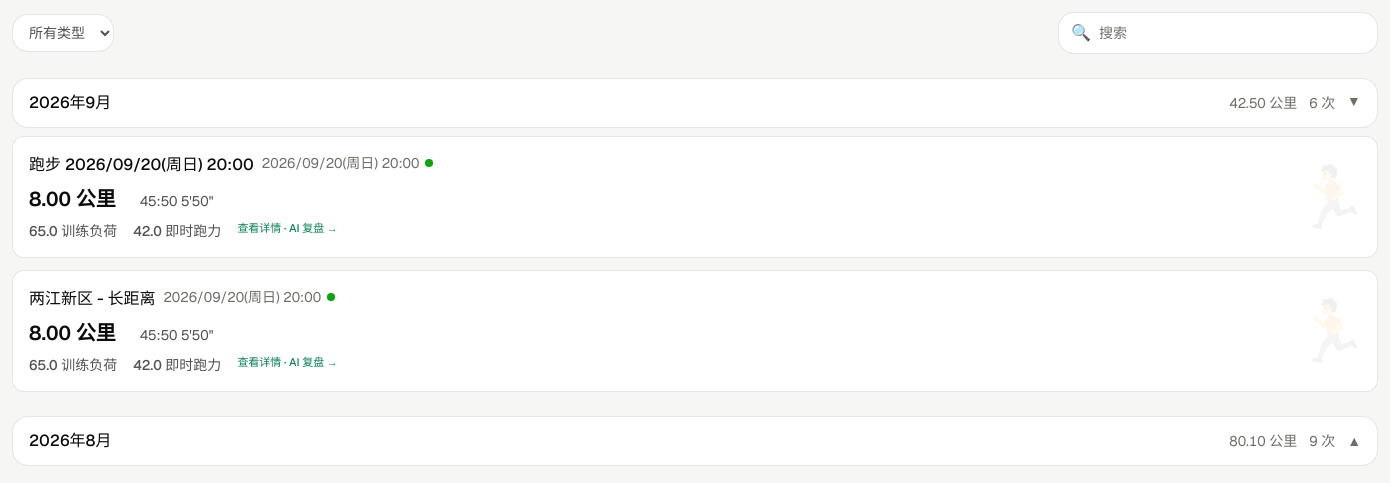
Test: ListClient 活动列表 (交互/筛选/无限滚动) › 搜索 + 无 name 活动 → name 走空串兜底后不匹配 (|| 右侧)
Type "两江" into the search field named "搜索活动".
click(1232, 33); type("两江")  # box [1099, 23, 1365, 43]
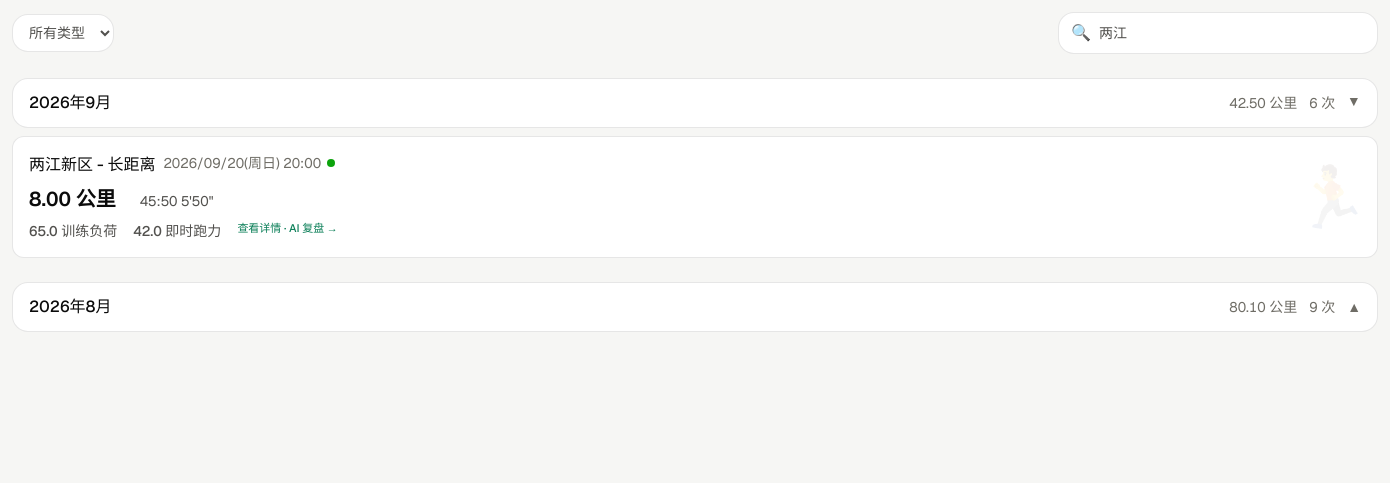
Expected: the button "两江新区 - 长距离" is shown, [12, 136, 1378, 258]
Expected: the button "跑步 2026" is gone
